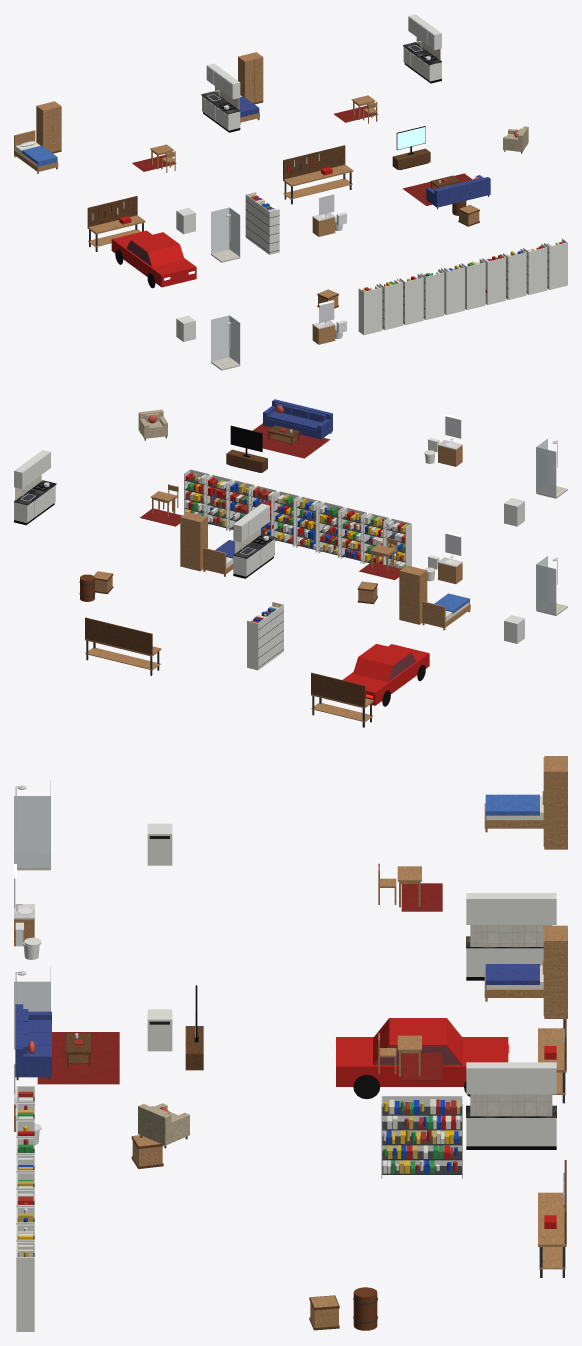
Rendered from i_warehouse_loft.gltf.
The picture shows the model from 3 angles, top to bottom: view 1: azimuth 30°, elevation 25°; view 2: azimuth 150°, elevation 25°; view 3: azimuth 270°, elevation 25°; orthographic projection. The views are drawn at different scales.
Parts seen in each view (by area): view 1: I_warehouse_loft; view 2: I_warehouse_loft; view 3: I_warehouse_loft.
Part boxes in pixels (x1,y1,x2,y2): I_warehouse_loft: (14,14,567,370); I_warehouse_loft: (14,399,567,727); I_warehouse_loft: (14,756,567,1331).
Size of the model in its own units: 19.35 by 7.2 by 13.52.
Materials: 33 (12 with a texture image).
